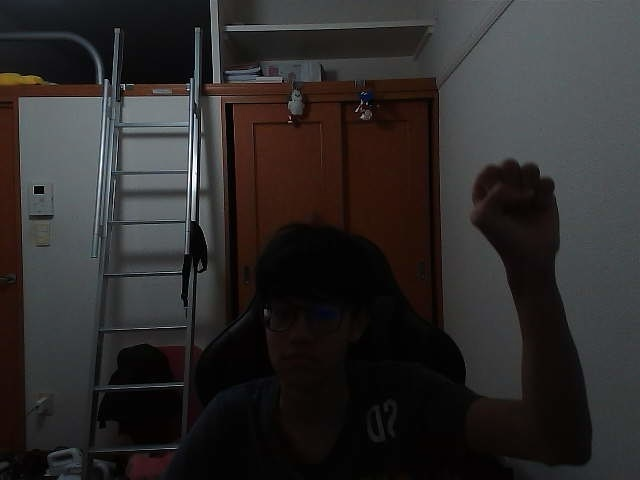closed_palm: (485, 163, 547, 257)
